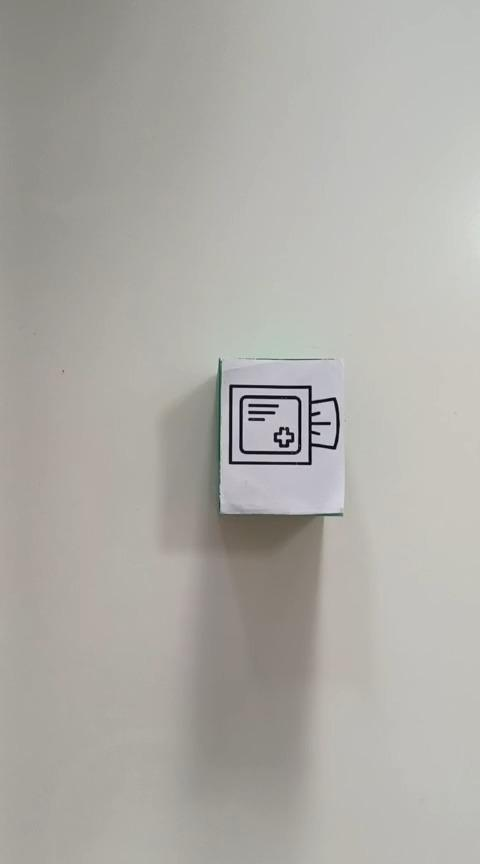Gauze: (216, 355, 345, 517)
